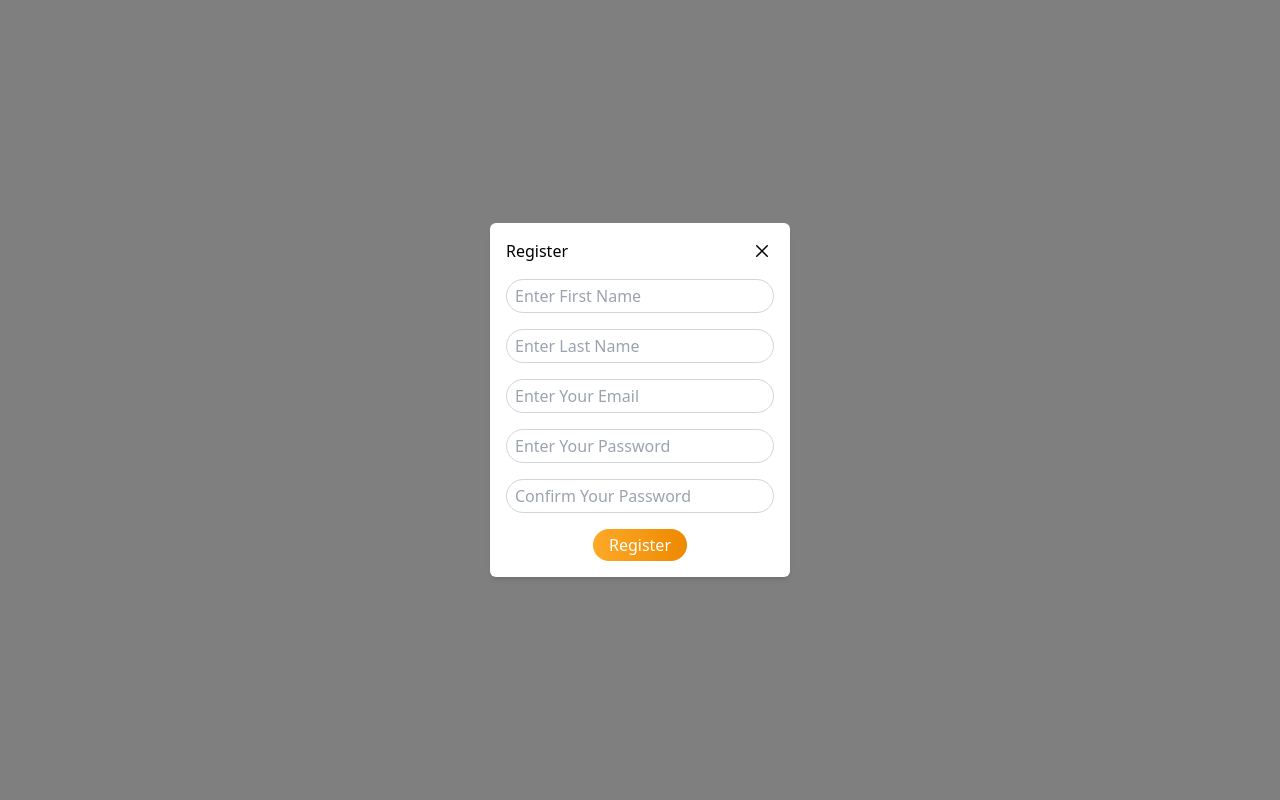
Test: RegisterPopUp Component › shows error when passwords do not match
The width and height of the screenshot is (1280, 800).
Type "password123" into the password field with placeholder "Enter Your Password".
click(640, 446); type("password123")  # box [506,429,774,463]
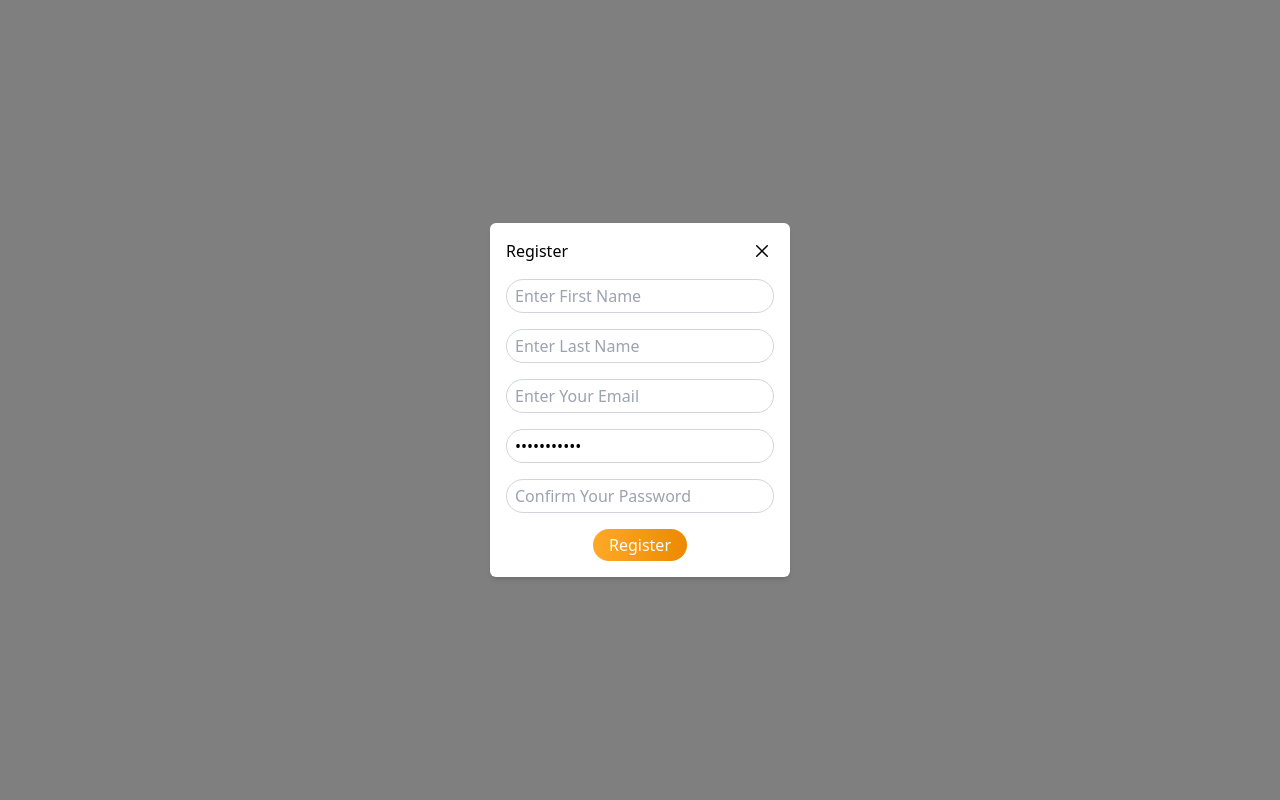
Type "password456" into the password field with placeholder "Confirm Your Password".
click(640, 496); type("password456")  # box [506,479,774,513]
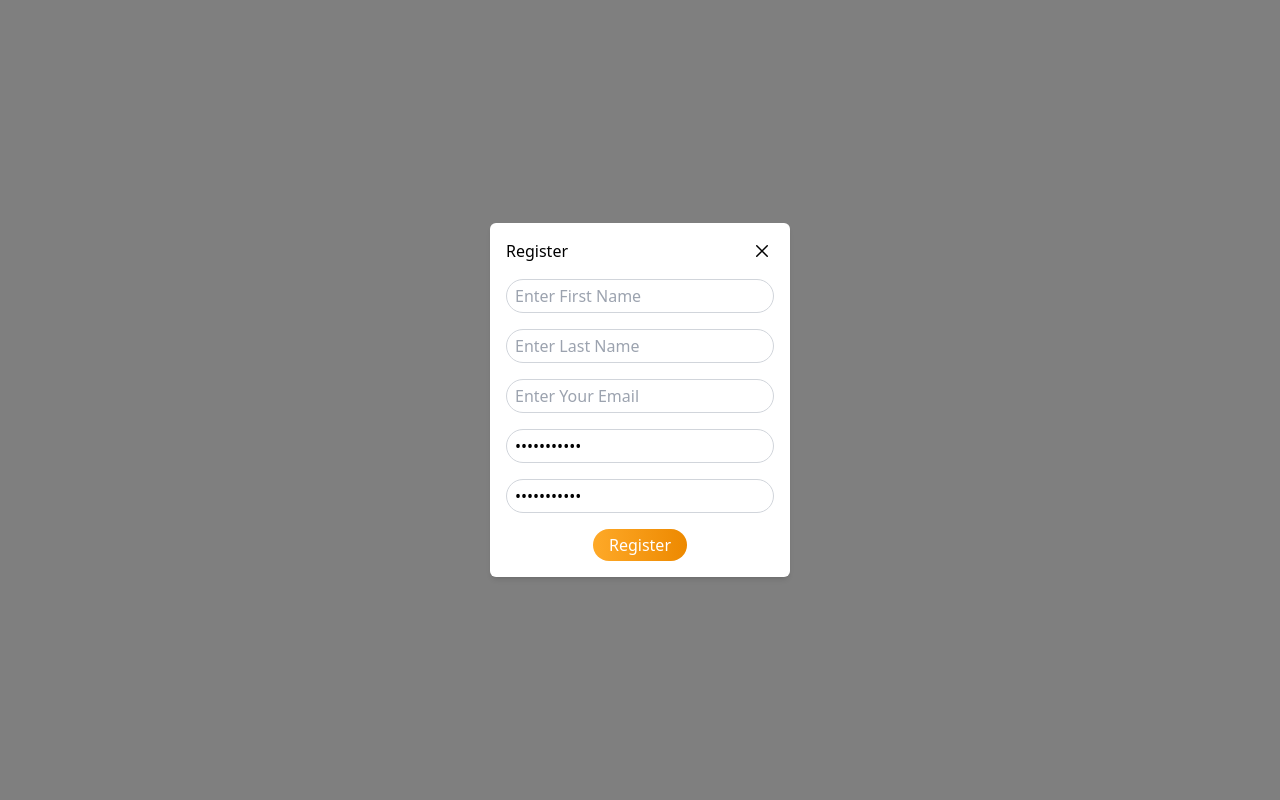
Submit the form from the button "Register", box [593,529,687,561]
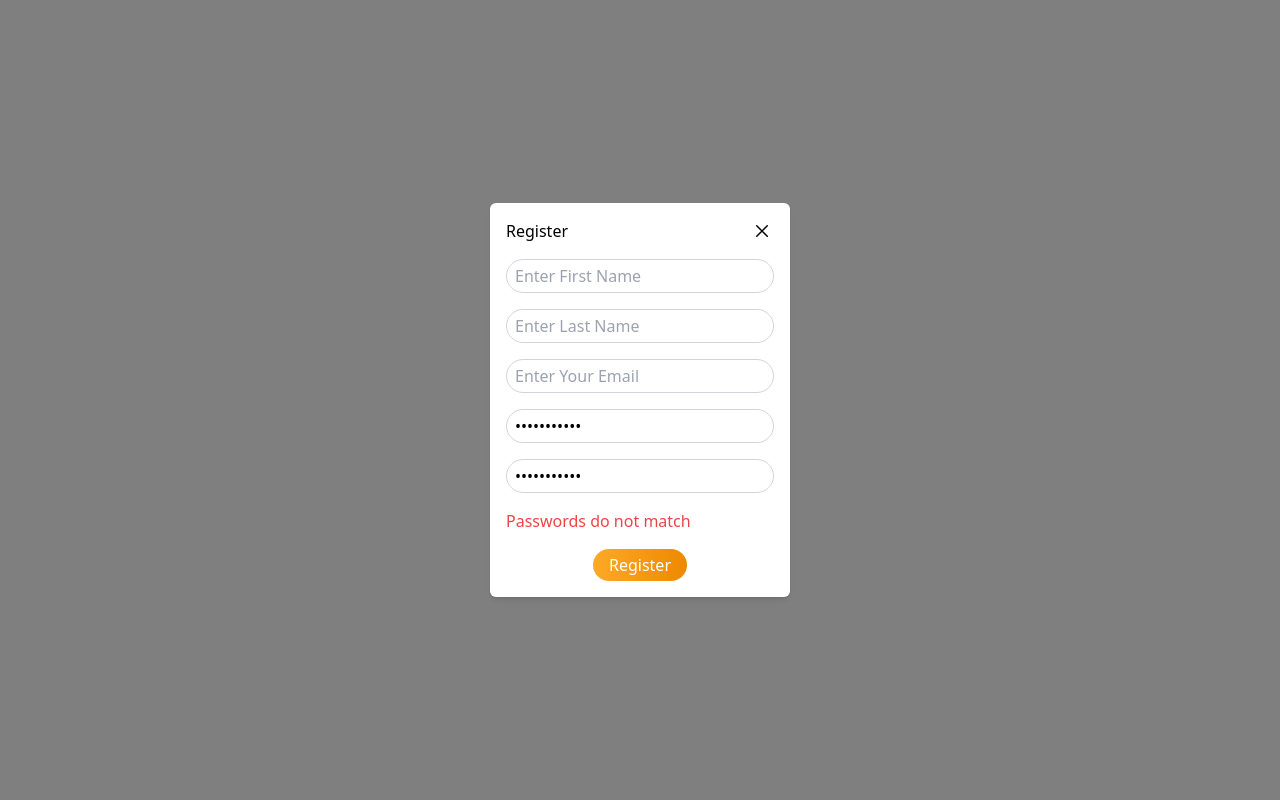
Check: the text "Passwords do not match" is shown, box [506,510,691,532]
